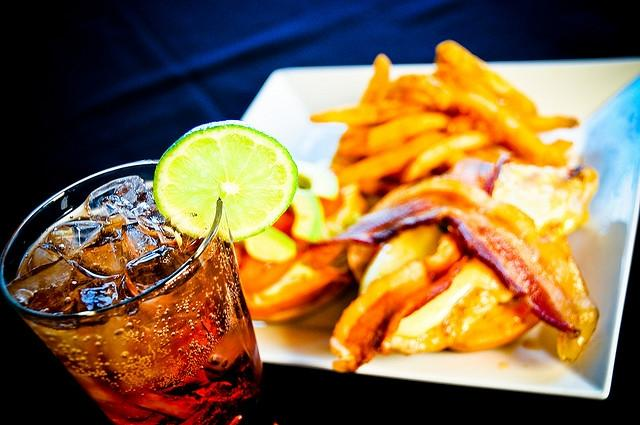lime: (152, 119, 298, 242), (290, 189, 325, 242)
